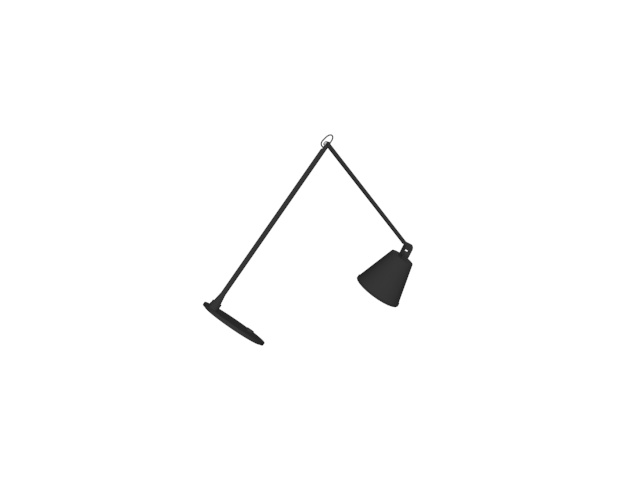desk_lamp: (201, 129, 416, 352)
